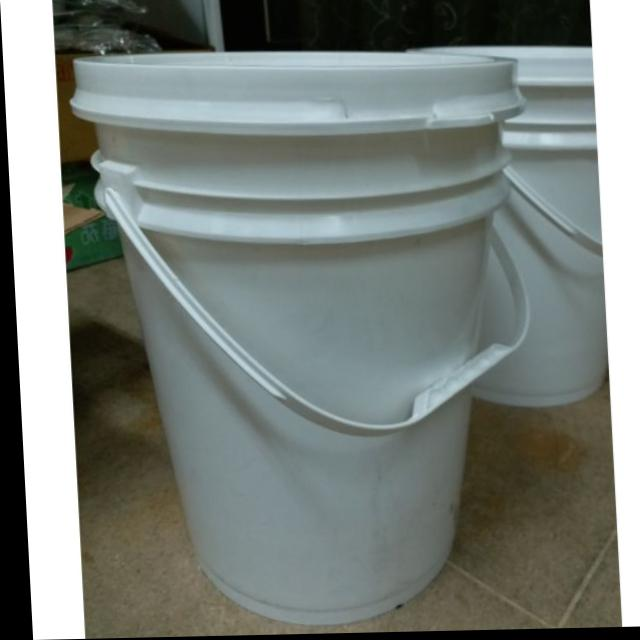plastic: (72, 50, 604, 622)
